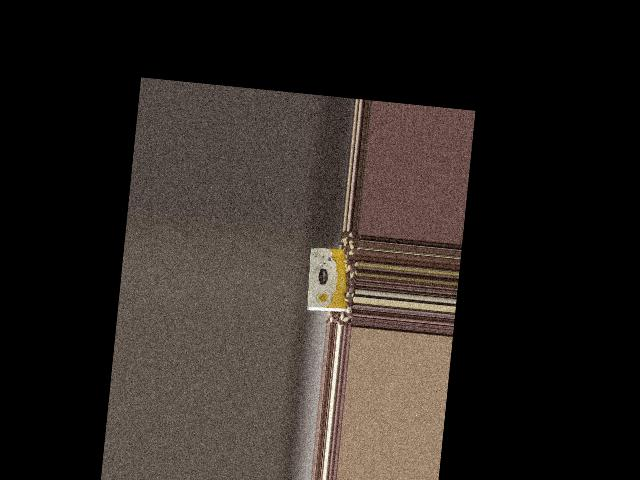chocolate: (302, 242, 354, 316)
